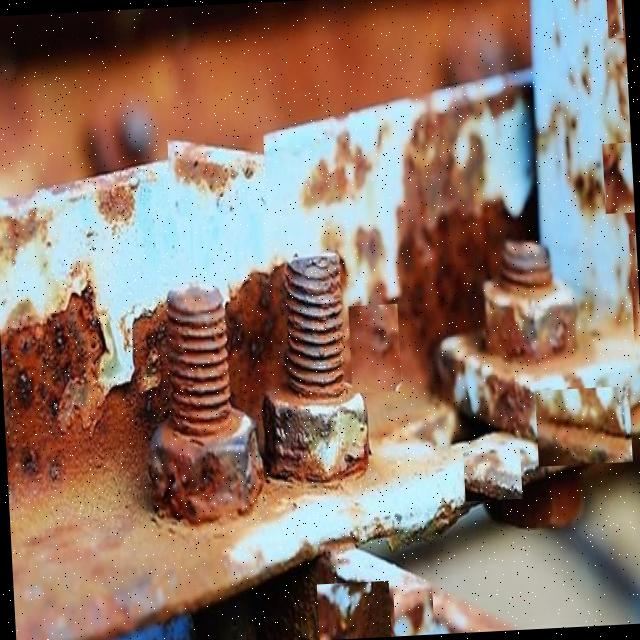Corrosion: (0, 0, 640, 640), (134, 278, 268, 528), (252, 248, 372, 485), (276, 250, 350, 401)
